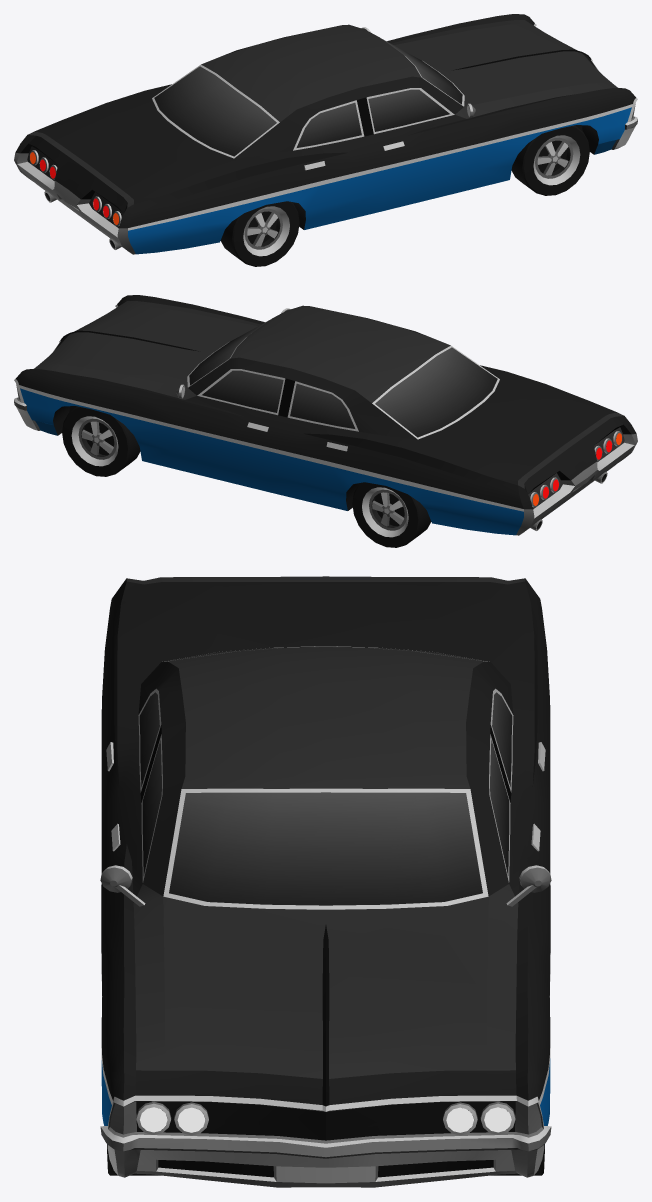
Rendered from Car_103.glb.
3 views of the same model, one above another, from view 1: azimuth 30°, elevation 25°; view 2: azimuth 150°, elevation 25°; view 3: azimuth 270°, elevation 25° (orthographic). The views are drawn at different scales.
Visible parts, largest first — view 1: Car_103, wheel_1_Car_103_Wheel_1R, wheel_3_Car_103_Wheel_2R; view 2: Car_103, wheel_0_Car_103_Wheel_1L, wheel_2_Car_103_Wheel_2L; view 3: Car_103.
Boxes of the visible parts, <box> form: Car_103: <box>14,14,637,254</box>; wheel_1_Car_103_Wheel_1R: <box>511,125,589,195</box>; wheel_3_Car_103_Wheel_2R: <box>220,201,299,266</box>; Car_103: <box>14,295,637,535</box>; wheel_0_Car_103_Wheel_1L: <box>62,406,140,476</box>; wheel_2_Car_103_Wheel_2L: <box>352,482,431,547</box>; Car_103: <box>100,576,551,1187</box>.
Bounding box in the file's own units: 5.45 × 1.38 × 2.01.
Materials: 2 (2 with a texture image).
